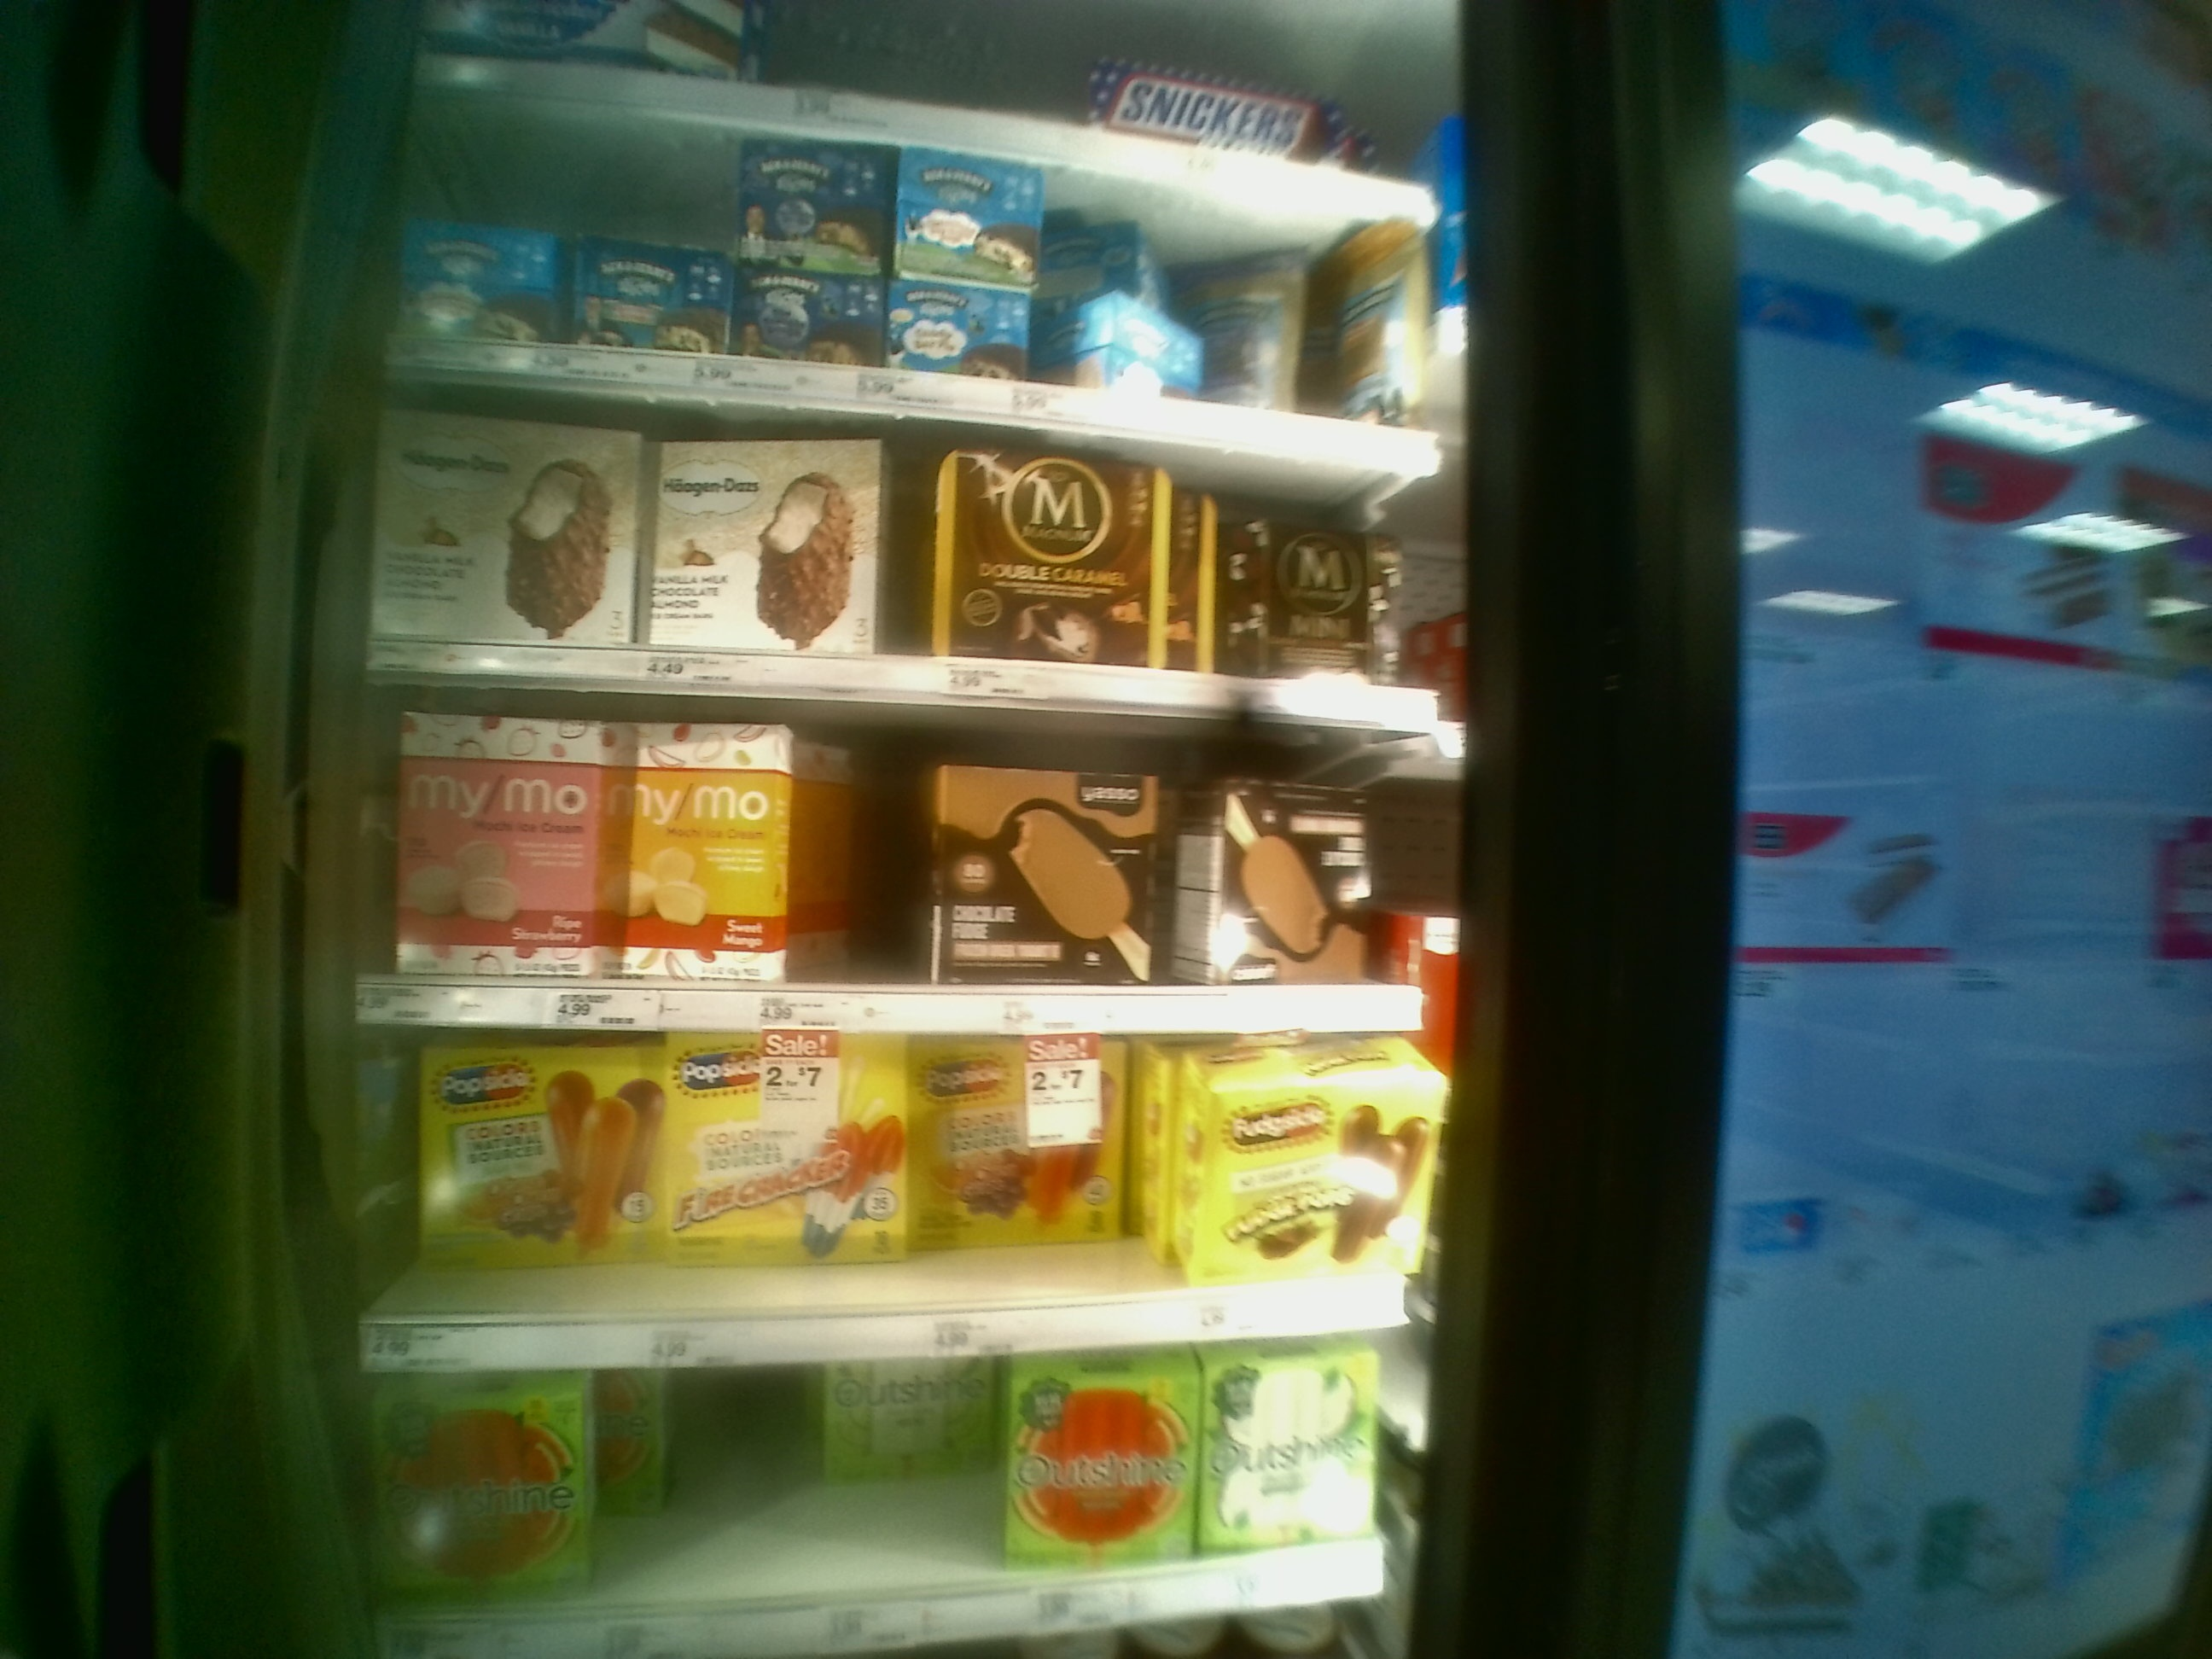ice-cream-shelf: (371, 681, 1435, 1030), (355, 1030, 1440, 1359)
